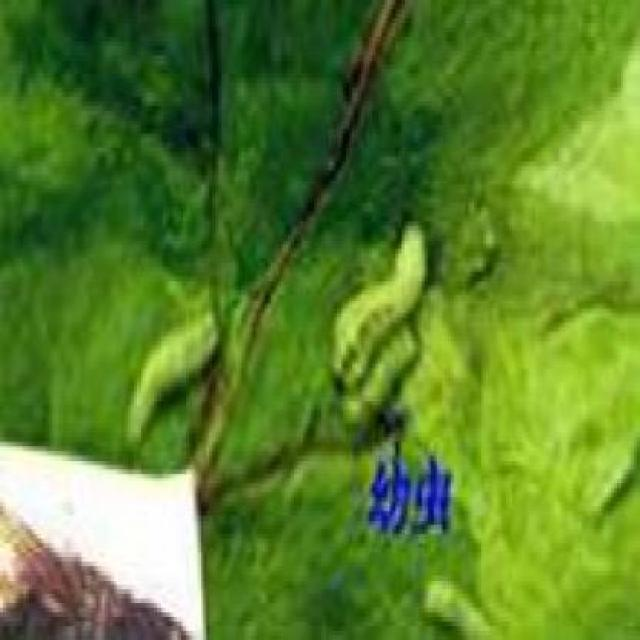whorl-maggot: (326, 217, 432, 429), (122, 303, 223, 455)
